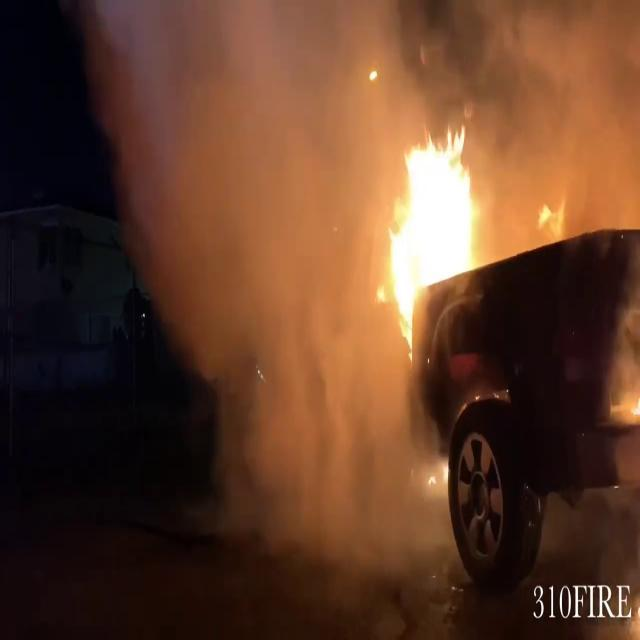Fire: (376, 124, 484, 346)
Smoke: (78, 2, 442, 576)
